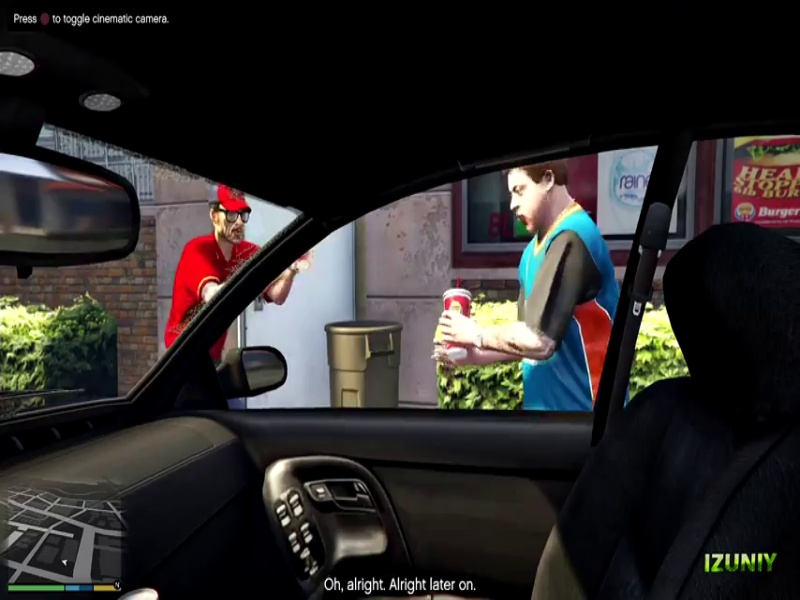human: (546, 216, 798, 597)
